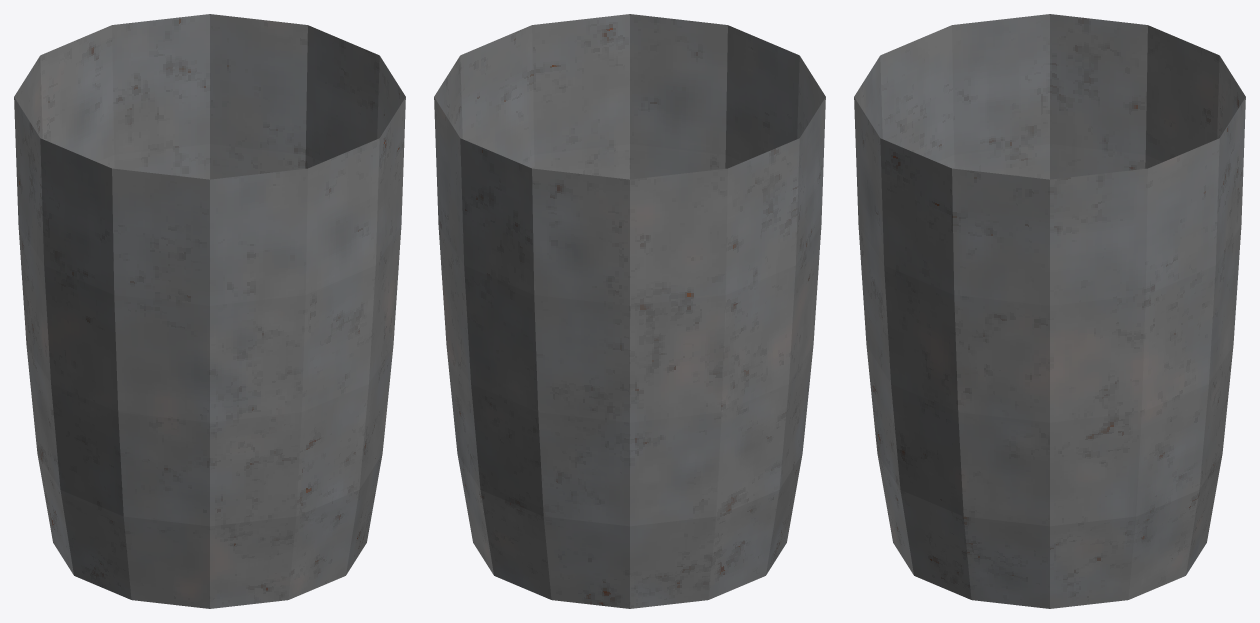
Rendered from trash_can_bucket.gltf.
3 views of the same model, side by side, from view 1: azimuth 30°, elevation 25°; view 2: azimuth 150°, elevation 25°; view 3: azimuth 270°, elevation 25° (orthographic).
Visible parts, largest first — view 1: Cylinder; view 2: Cylinder; view 3: Cylinder.
Boxes of the visible parts, left/top/right/bottom form: Cylinder: left=14, top=14, right=405, bottom=608; Cylinder: left=434, top=14, right=825, bottom=608; Cylinder: left=854, top=14, right=1245, bottom=608.
Bounding box in the file's own units: 2.5 × 3.13 × 2.5.
Materials: 1 (1 with a texture image).
